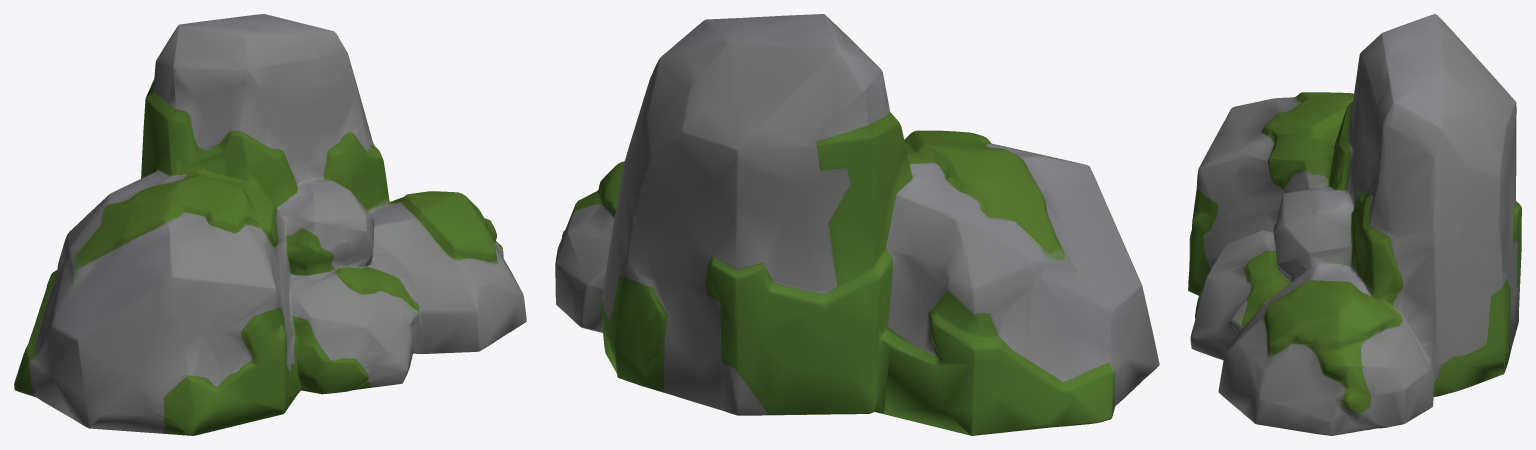
The model's file is rock.glb.
3 renders of one model, left to right at view 1: azimuth 30°, elevation 25°; view 2: azimuth 150°, elevation 25°; view 3: azimuth 270°, elevation 25°, orthographic. The views are drawn at different scales.
Parts seen in each view (by area): view 1: Mesh_0; view 2: Mesh_0; view 3: Mesh_0.
Part boxes in pixels (x1,y1,x2,y2): Mesh_0: (14, 14, 526, 435); Mesh_0: (555, 14, 1159, 435); Mesh_0: (1188, 14, 1521, 435).
Size of the model in its own units: 1.91 by 1.12 by 1.17.
1 material, 1 textured.
